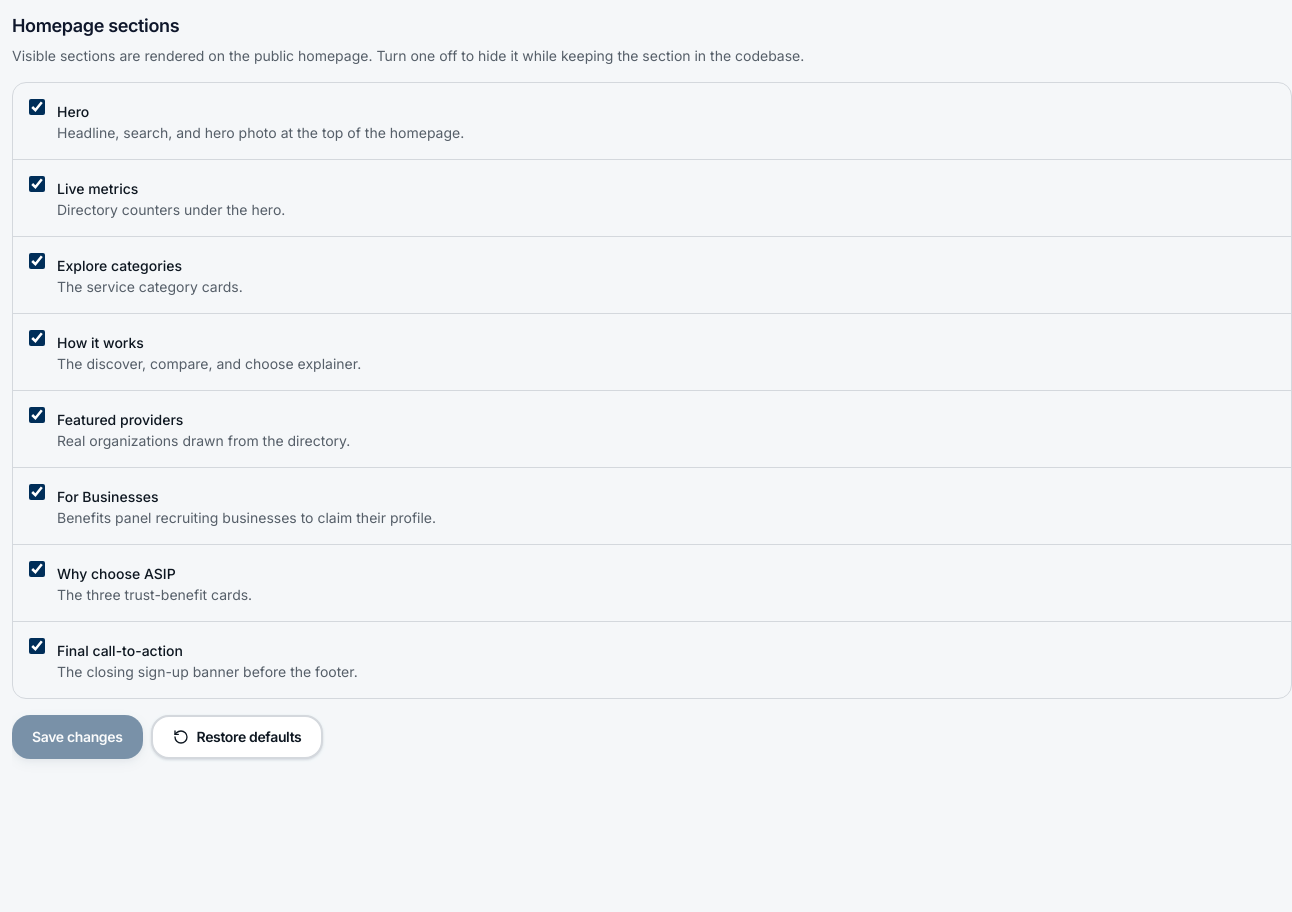
Scenario: AdminHomepageSettings › reports a failed save instead of claiming it worked
The width and height of the screenshot is (1292, 912).
What coordinates should you click on to do the following:
click the checkbox labelled "Final call-to-action"
I would click on:
 (37, 646)
Its box is [29, 638, 45, 654].
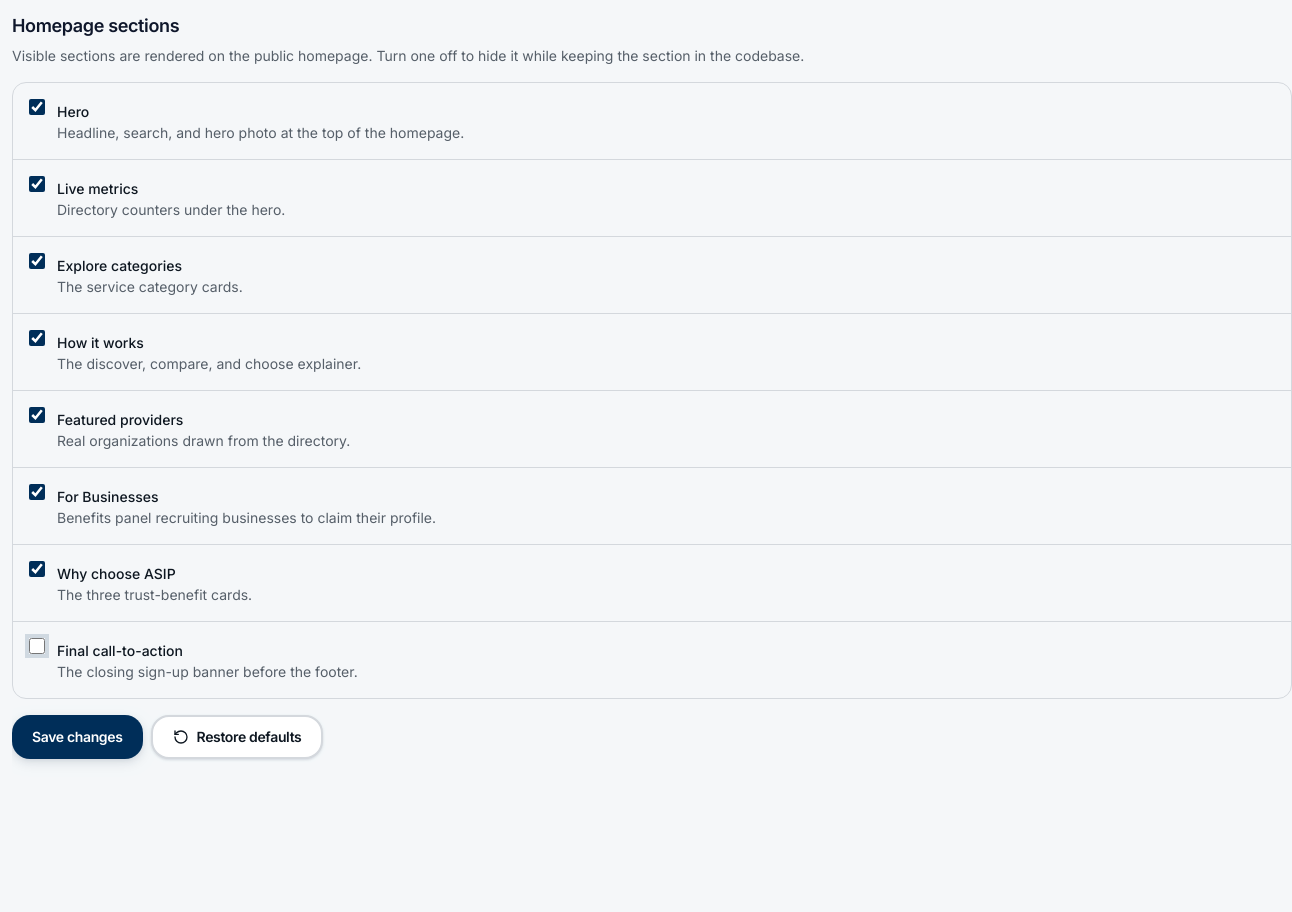
What coordinates should you click on to do the following:
click the button "Save changes"
I would click on:
 (77, 737)
Its box is [12, 715, 142, 759].
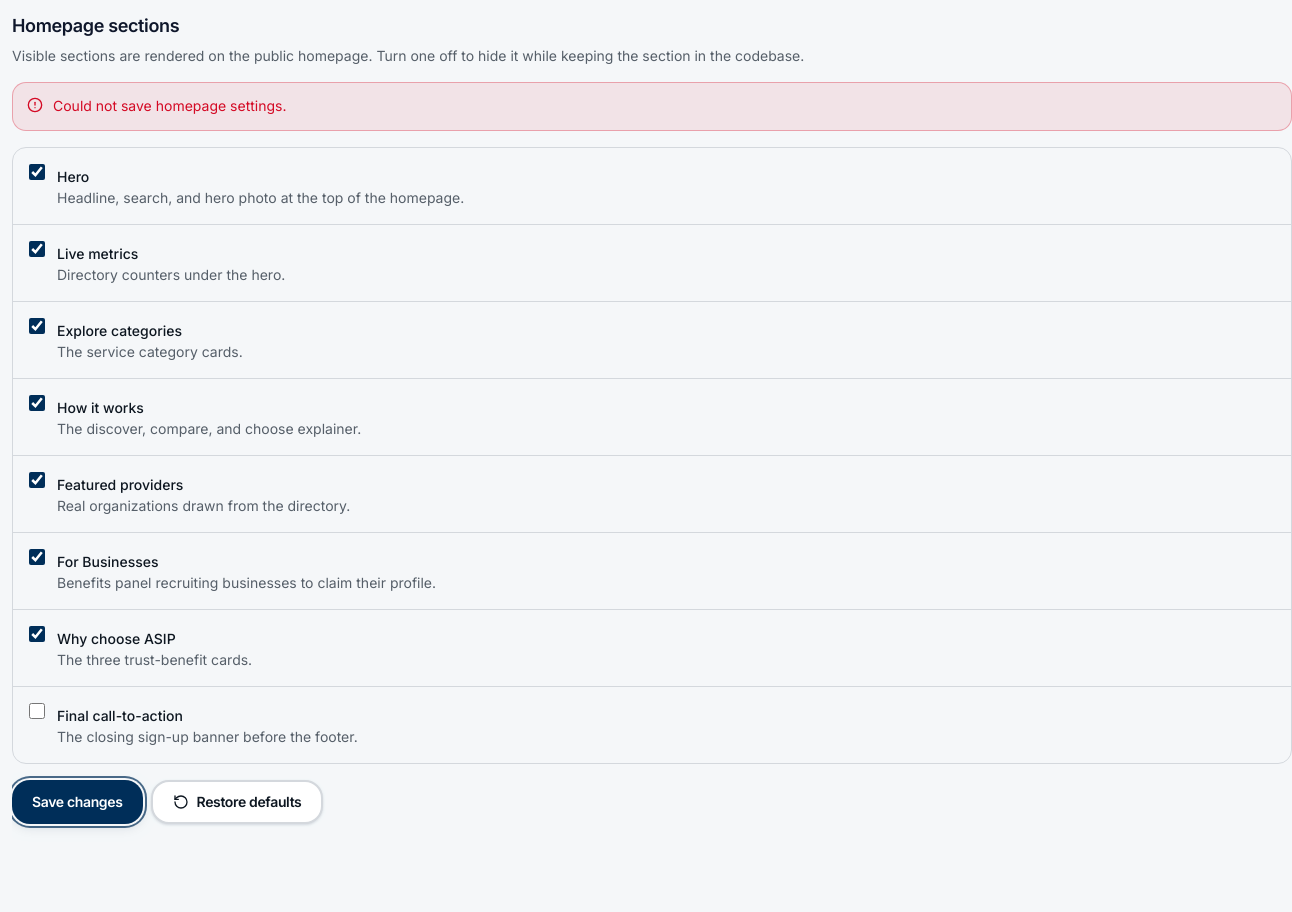
Check: the text "Could not save homepage settings." is shown, box [53, 95, 286, 118]
